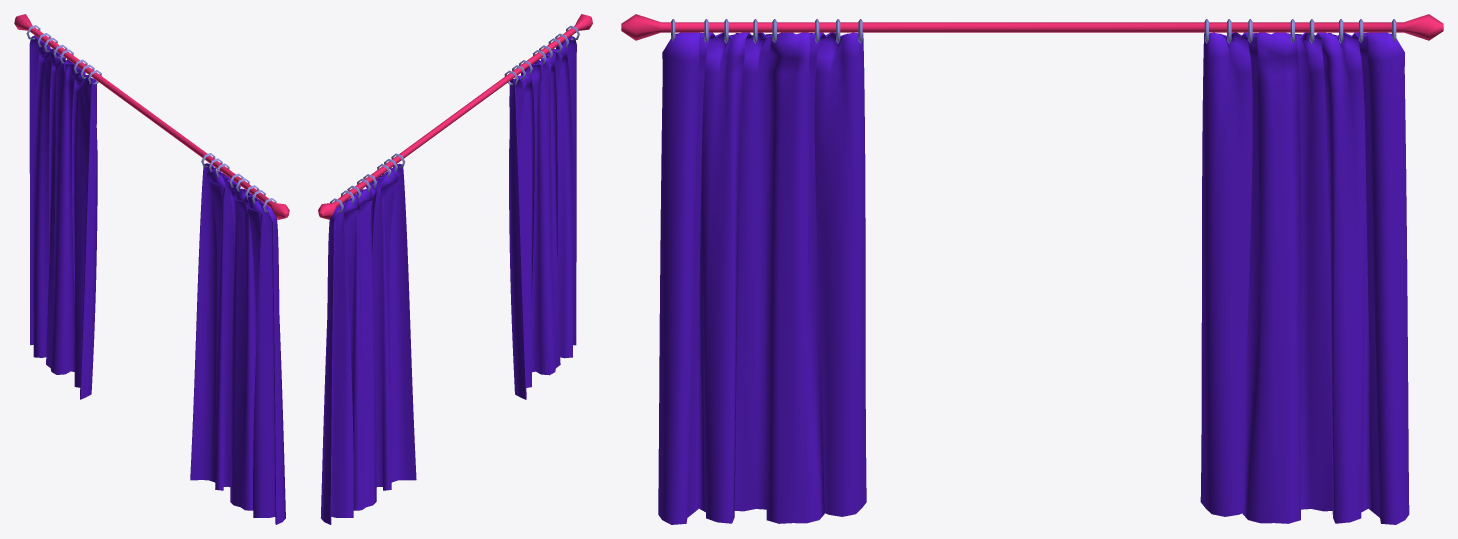
File: curtains.FBX
3 renders of one model, left to right at view 1: azimuth 30°, elevation 25°; view 2: azimuth 150°, elevation 25°; view 3: azimuth 270°, elevation 25°, orthographic. The views are drawn at different scales.
Visible parts, largest first — view 1: curtain002; view 2: curtain002; view 3: curtain002.
Boxes of the visible parts, x1=… form: curtain002: x1=14, y1=14, x2=289, y2=524; curtain002: x1=318, y1=14, x2=592, y2=524; curtain002: x1=621, y1=14, x2=1443, y2=524.
Bounding box in the file's own units: 0.3261 × 3.17 × 4.74.
